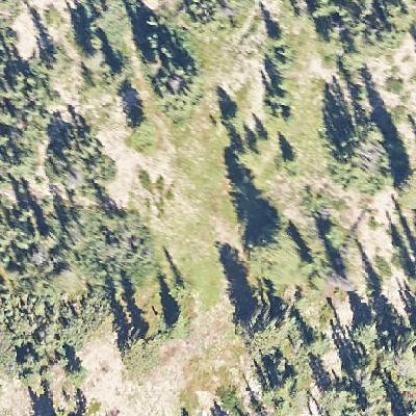tree-top: (239, 219, 285, 260), (118, 330, 164, 370), (123, 117, 164, 155), (159, 305, 199, 338), (278, 146, 309, 176), (352, 315, 382, 345), (78, 46, 108, 70), (62, 356, 88, 382), (16, 343, 40, 368), (265, 26, 291, 48), (222, 104, 246, 126)
